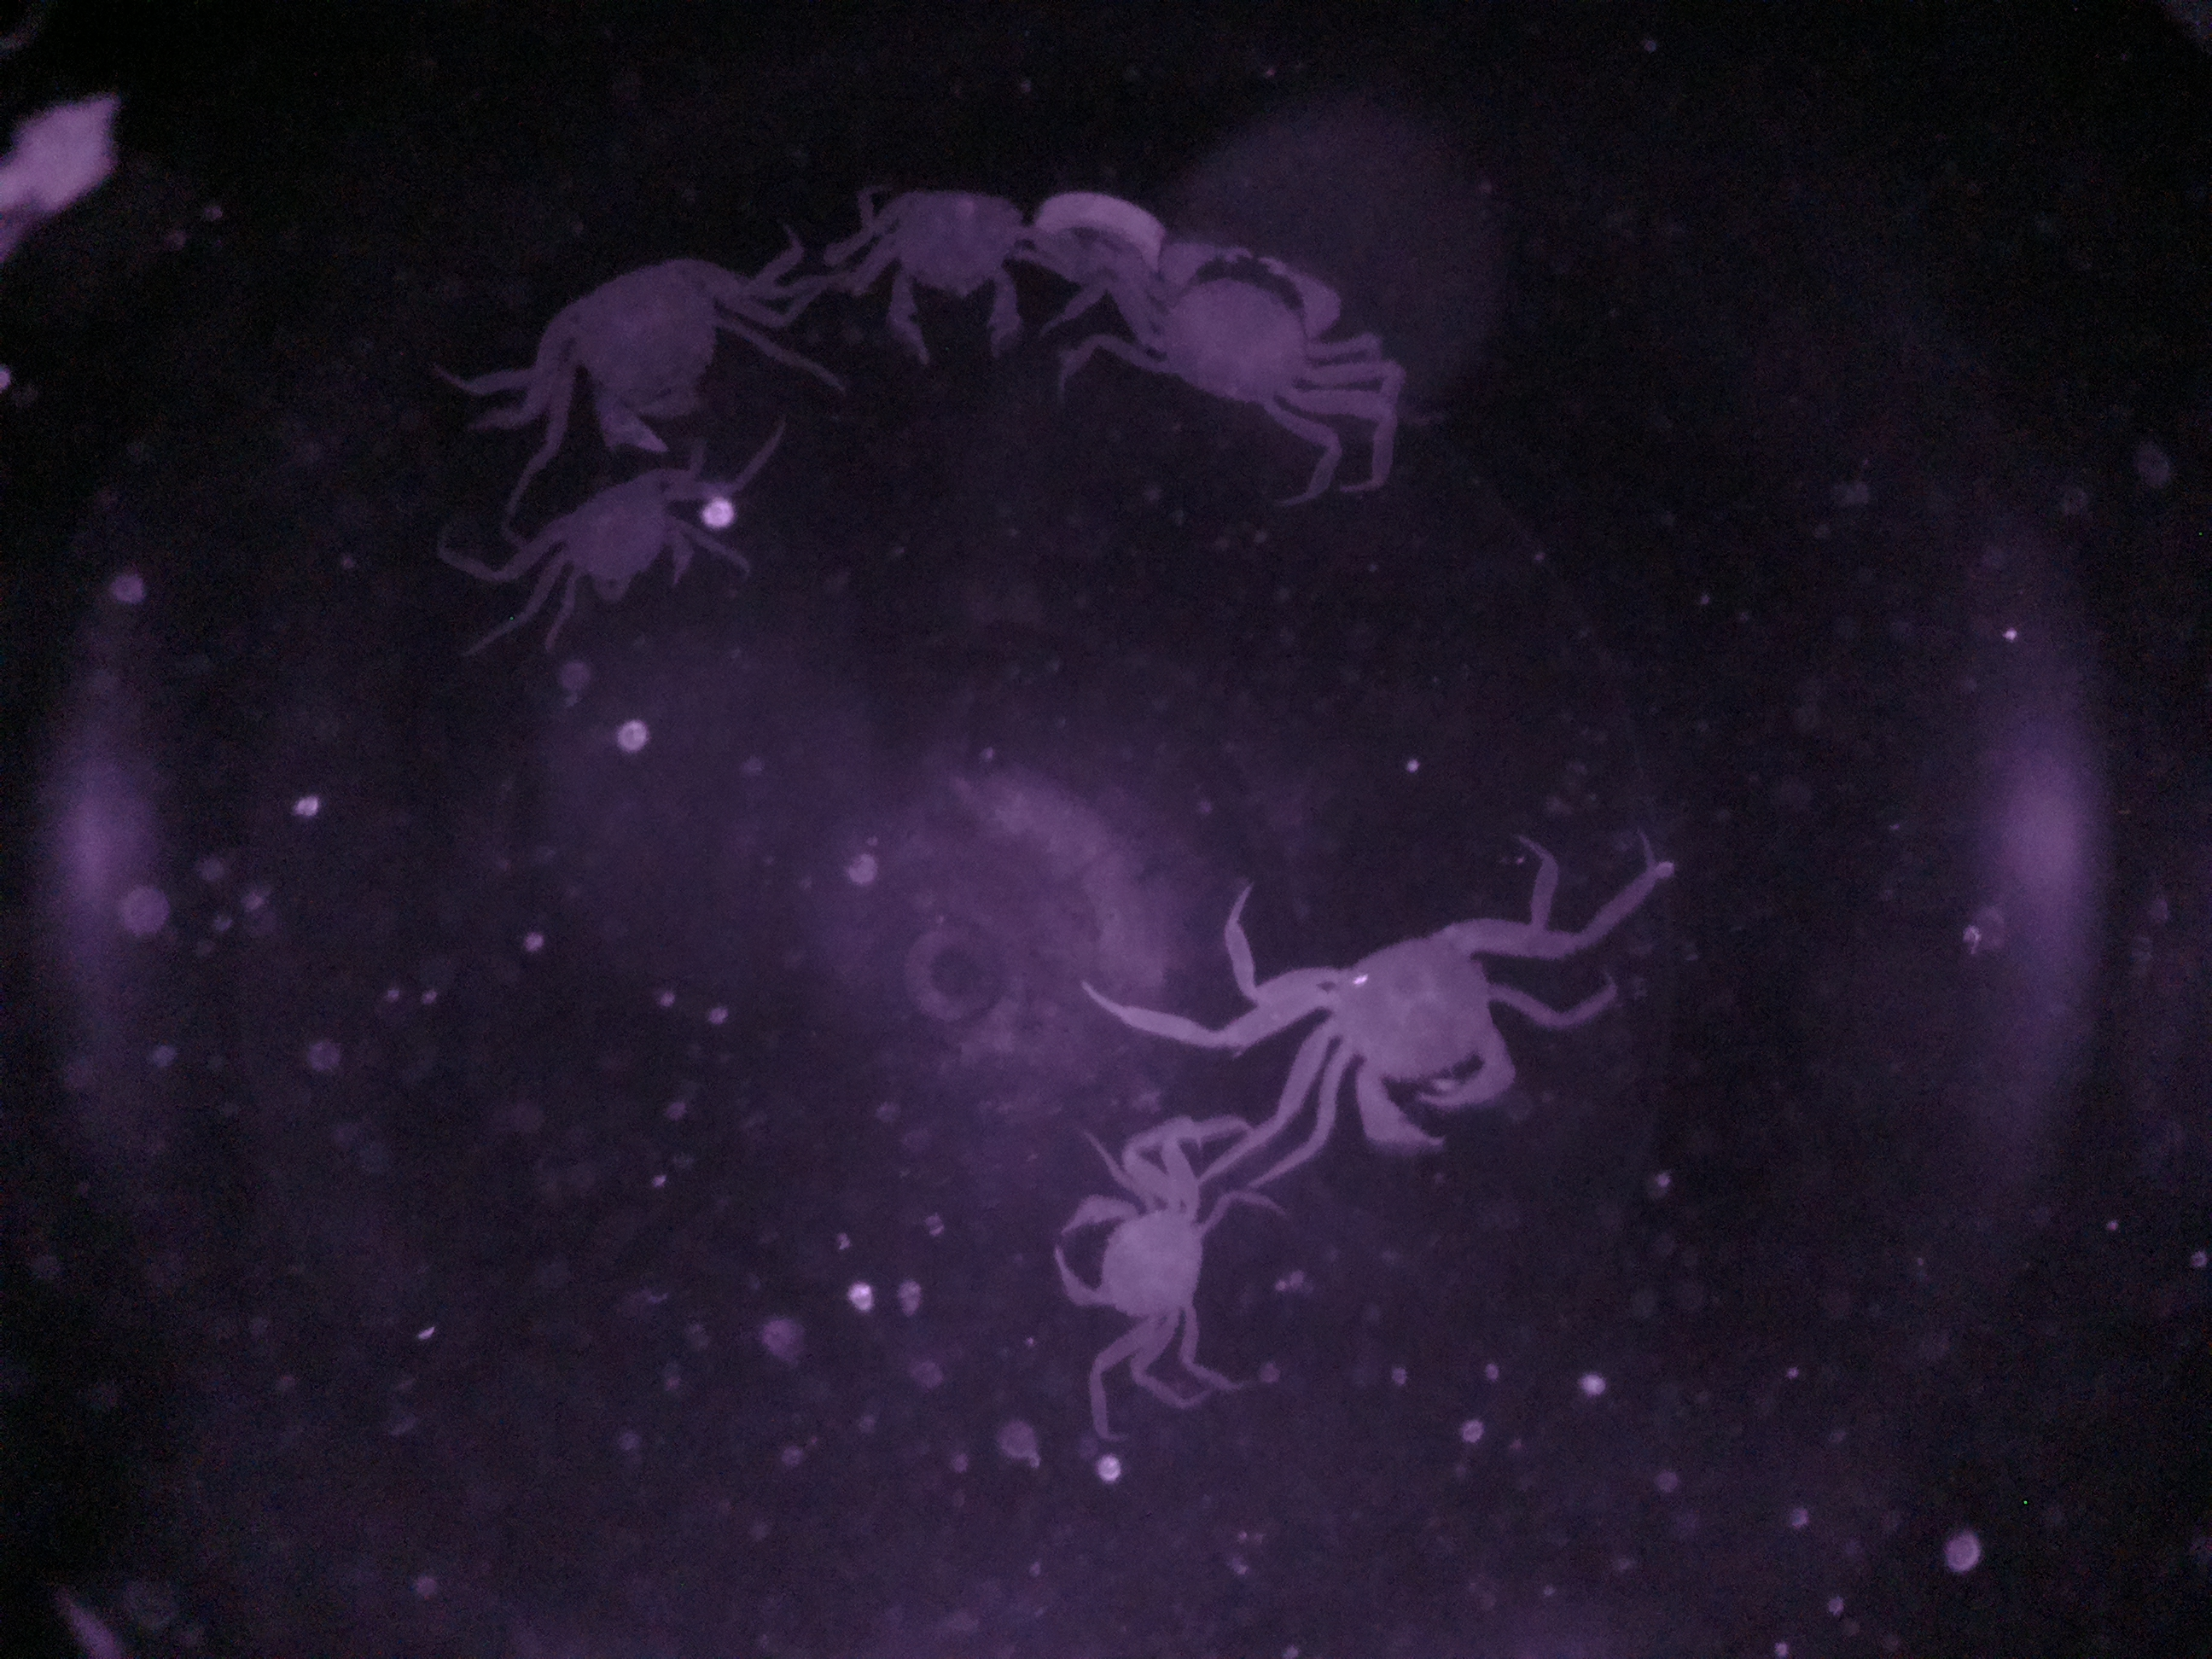Crab: (1263, 897, 1547, 1164), (1087, 230, 1369, 439), (1043, 1143, 1219, 1364), (491, 446, 702, 615)
